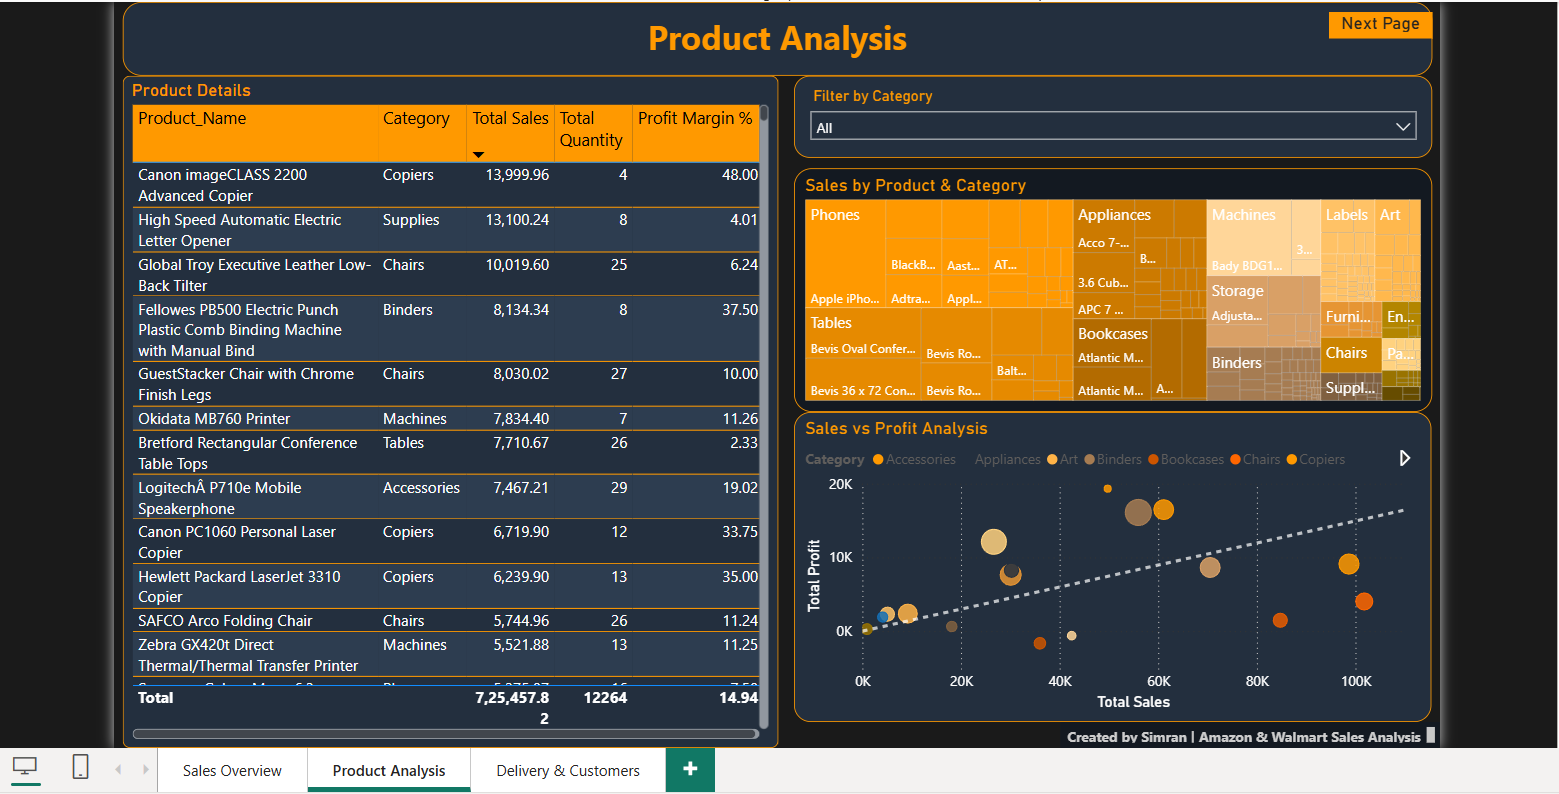

This screenshot's page, from the dashboard's own definition file:
{"tool":"powerbi","page":{"name":"Product Analysis","canvas":[1280,720],"ordinal":1},"visuals":[{"type":"textbox","box":[8.1,0,1264,70.9],"z":0},{"type":"tableEx","title":"Product Details","fields":{"Values":["WORKING DATA.Product_Name","WORKING DATA.Category","WORKING DATA.Total Sales","Sum(WORKING DATA.Quantity)","WORKING DATA.Profit Margin %"]},"box":[8.1,70.9,632.6,648.8],"z":1000},{"type":"treemap","title":"Sales by Product & Category","fields":{"Group":["WORKING DATA.Category"],"Details":["WORKING DATA.Product_Name"],"Values":["WORKING DATA.Total Sales"]},"box":[655.8,160.5,616.3,234.9],"z":2000},{"type":"scatterChart","title":"Sales vs Profit Analysis","fields":{"X":["WORKING DATA.Total Sales"],"Y":["WORKING DATA.Total Profit"],"Category":["WORKING DATA.Category"],"Series":["WORKING DATA.Category"],"Size":["Sum(WORKING DATA.Quantity)"]},"box":[656.3,395.7,615.3,299.2],"z":3000},{"type":"slicer","fields":{"Values":["WORKING DATA.Category"]},"box":[655.8,70.9,616.3,79.1],"z":4000},{"type":"actionButton","title":"Next Page","box":[1172.7,9.7,100.1,25.3],"z":5000},{"type":"textbox","box":[913.3,694.9,366.8,25.3],"z":6000}]}

Visuals, with their boxes on the page's 1280x720 design canvas (x1, y1, x2, y2). These are canvas units, not pixel positions in the 1559x794 screenshot, which may show the page scaled, cropped or inside an application window:
textbox: box(8, 0, 1272, 71)
"Product Details" tableEx: box(8, 71, 641, 720)
"Sales by Product & Category" treemap: box(656, 160, 1272, 395)
"Sales vs Profit Analysis" scatterChart: box(656, 396, 1272, 695)
slicer - WORKING DATA.Category: box(656, 71, 1272, 150)
"Next Page" actionButton: box(1173, 10, 1273, 35)
textbox: box(913, 695, 1280, 720)
